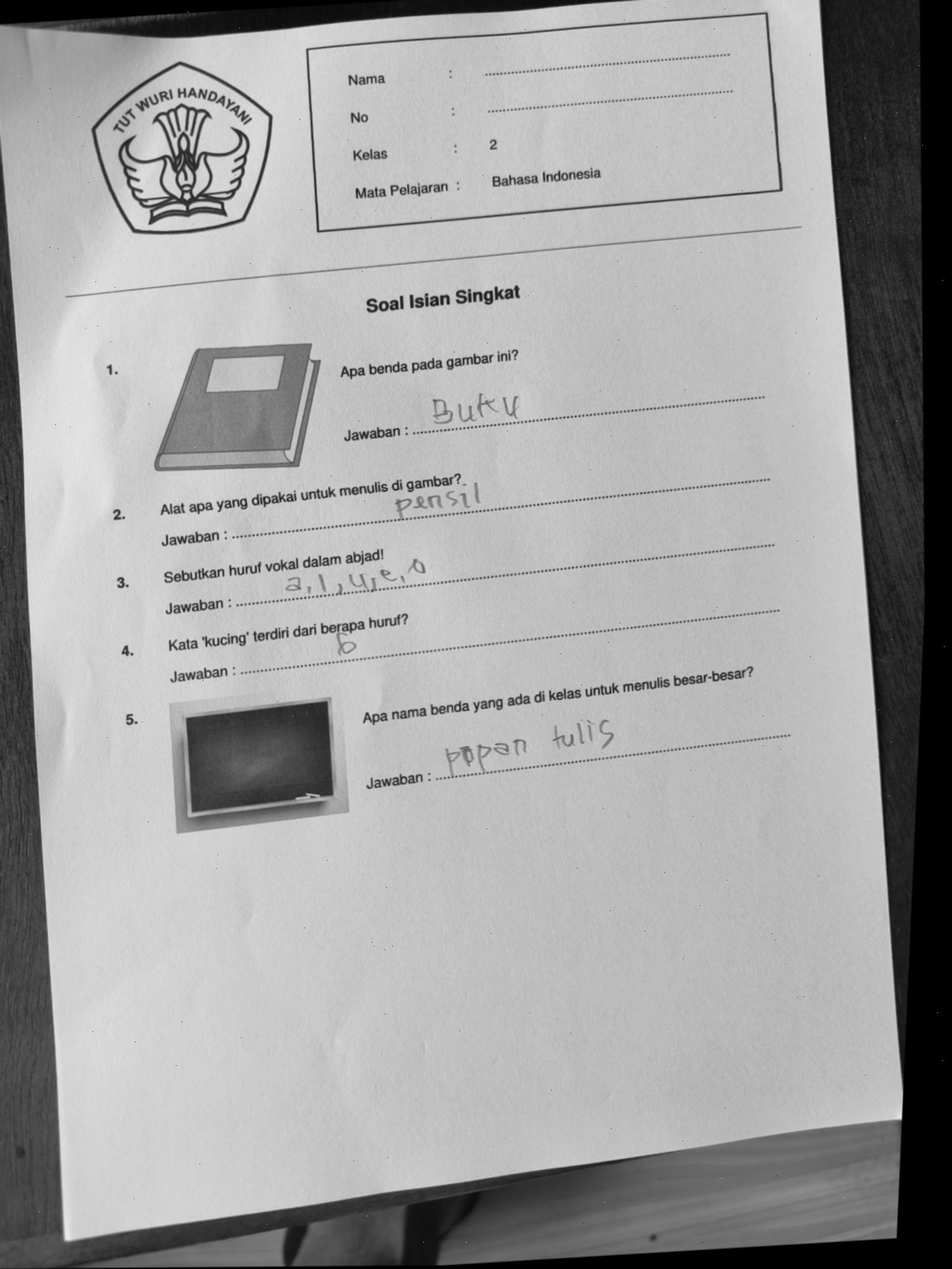soal-1: (92, 291, 782, 488)
soal-2: (107, 423, 788, 562)
soal-3: (110, 498, 797, 632)
soal-4: (117, 555, 805, 704)
soal-5: (117, 622, 817, 850)
